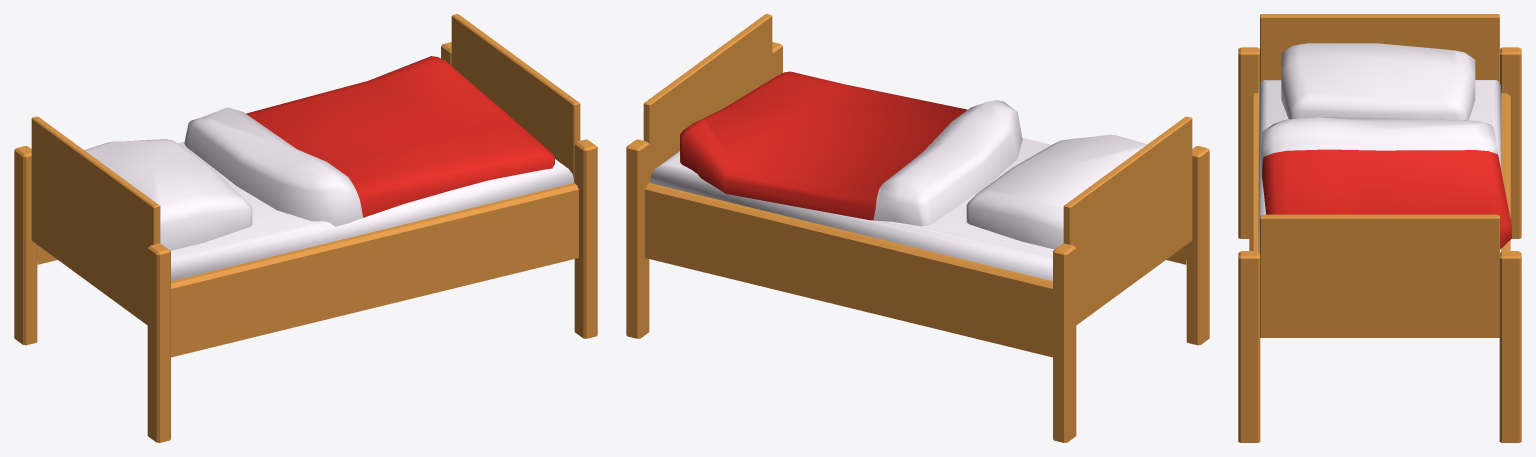
Rendered from env_bed.fbx.
3 renders of one model, left to right at view 1: azimuth 30°, elevation 25°; view 2: azimuth 150°, elevation 25°; view 3: azimuth 270°, elevation 25°, orthographic. The views are drawn at different scales.
Parts seen in each view (by area): view 1: Cube.004; view 2: Cube.004; view 3: Cube.004.
Part boxes in pixels (box(x1,y1,x2,y2)): Cube.004: box(14, 14, 597, 442); Cube.004: box(626, 14, 1209, 442); Cube.004: box(1238, 14, 1521, 442).
Bounding box in the file's own units: 193 × 94.92 × 110.
